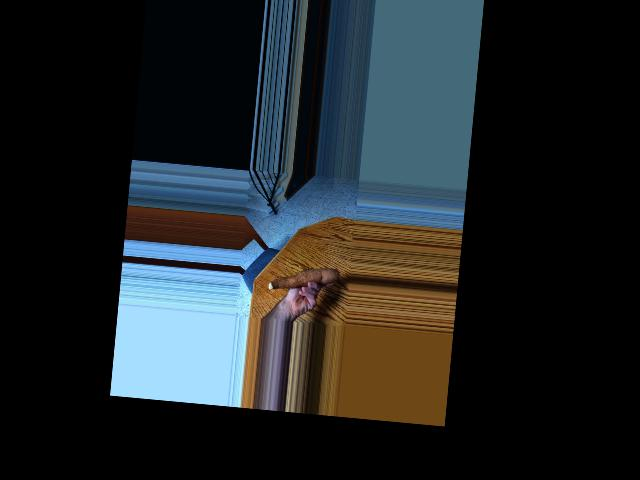sweet_potato: (267, 261, 340, 298)
